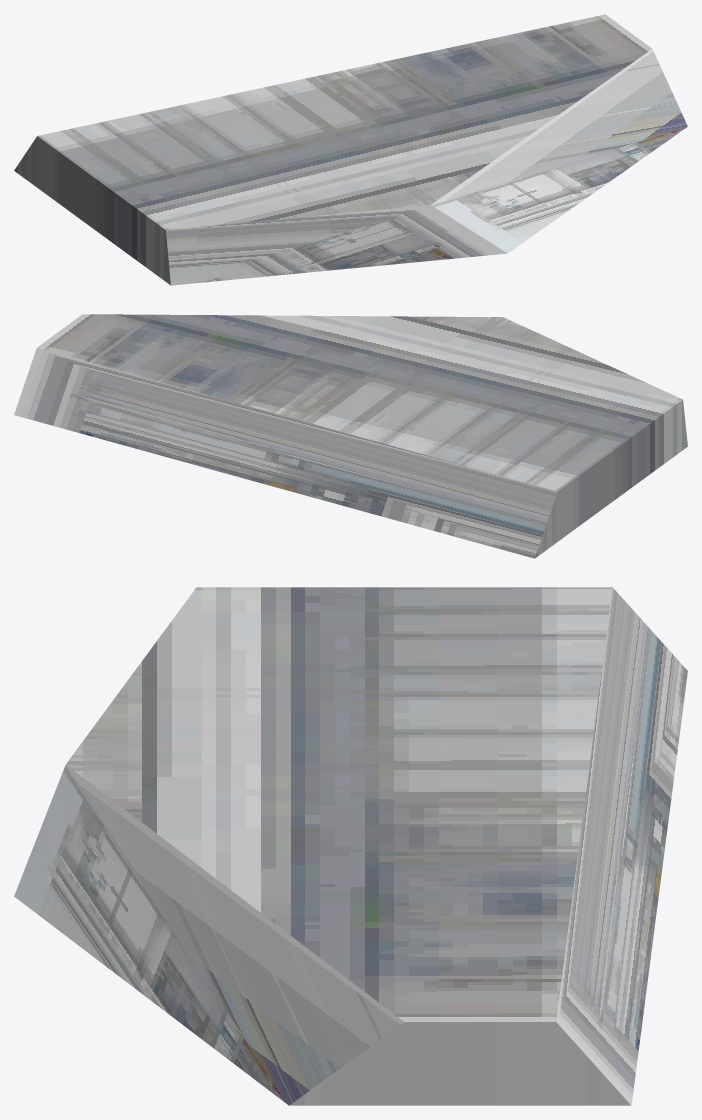
The model's file is 026_highriserWall_cell_001.gltf.
3 views of the same model, one above another, from view 1: azimuth 30°, elevation 25°; view 2: azimuth 150°, elevation 25°; view 3: azimuth 270°, elevation 25° (orthographic). The views are drawn at different scales.
Parts seen in each view (by area): view 1: highriserWall_cell_001; view 2: highriserWall_cell_001; view 3: highriserWall_cell_001.
Boxes of the visible parts, box(x1,y1,x2,y2) form: highriserWall_cell_001: box(14, 14, 687, 285); highriserWall_cell_001: box(14, 314, 687, 558); highriserWall_cell_001: box(14, 587, 687, 1105).
Bounding box in the file's own units: 4.09 × 0.3682 × 2.68.
Materials: 2 (2 with a texture image).
